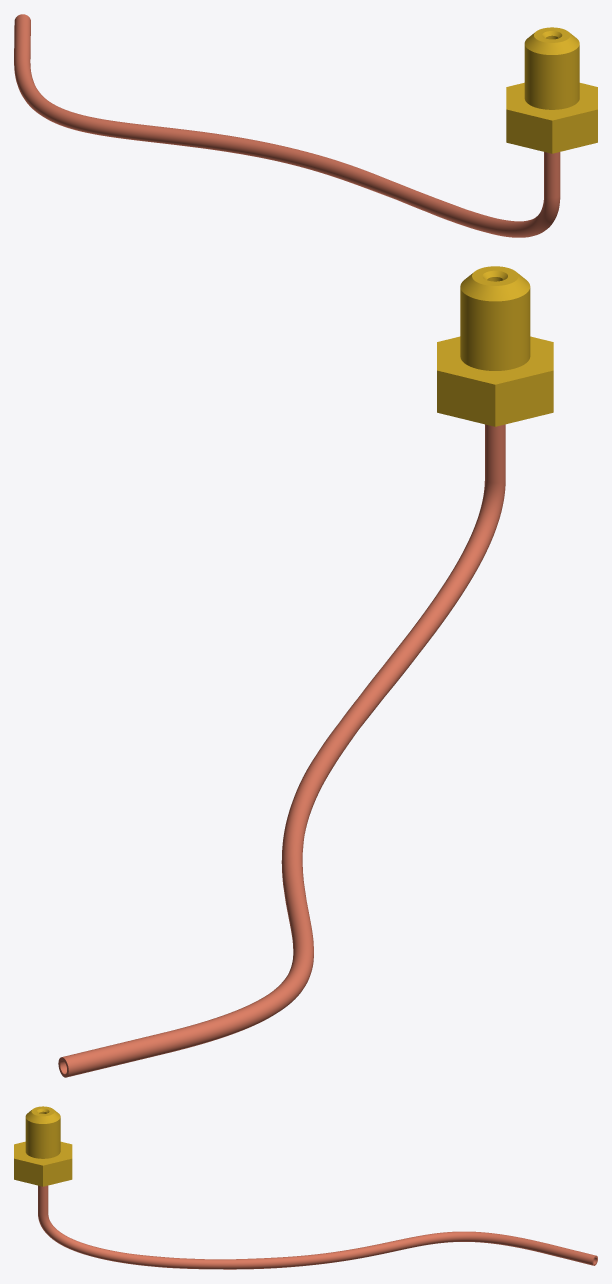
Rendered from modal10.fbx.
3 renders of one model, top to bottom at view 1: azimuth 30°, elevation 25°; view 2: azimuth 150°, elevation 25°; view 3: azimuth 270°, elevation 25°, orthographic. The views are drawn at different scales.
Parts seen in each view (by area): view 1: 扫描-薄件1, 倒角3; view 2: 扫描-薄件1, 倒角3; view 3: 扫描-薄件1, 倒角3.
Part boxes in pixels (left/top/right/bottom): 扫描-薄件1: left=14, top=14, right=560, bottom=237; 倒角3: left=506, top=27, right=597, bottom=153; 扫描-薄件1: left=58, top=424, right=505, bottom=1077; 倒角3: left=437, top=266, right=553, bottom=426; 扫描-薄件1: left=38, top=1185, right=597, bottom=1269; 倒角3: left=14, top=1106, right=72, bottom=1186.
Size of the model in its own units: 1.4 by 1.74 by 5.02.
